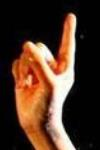up: (10, 12, 78, 123)
